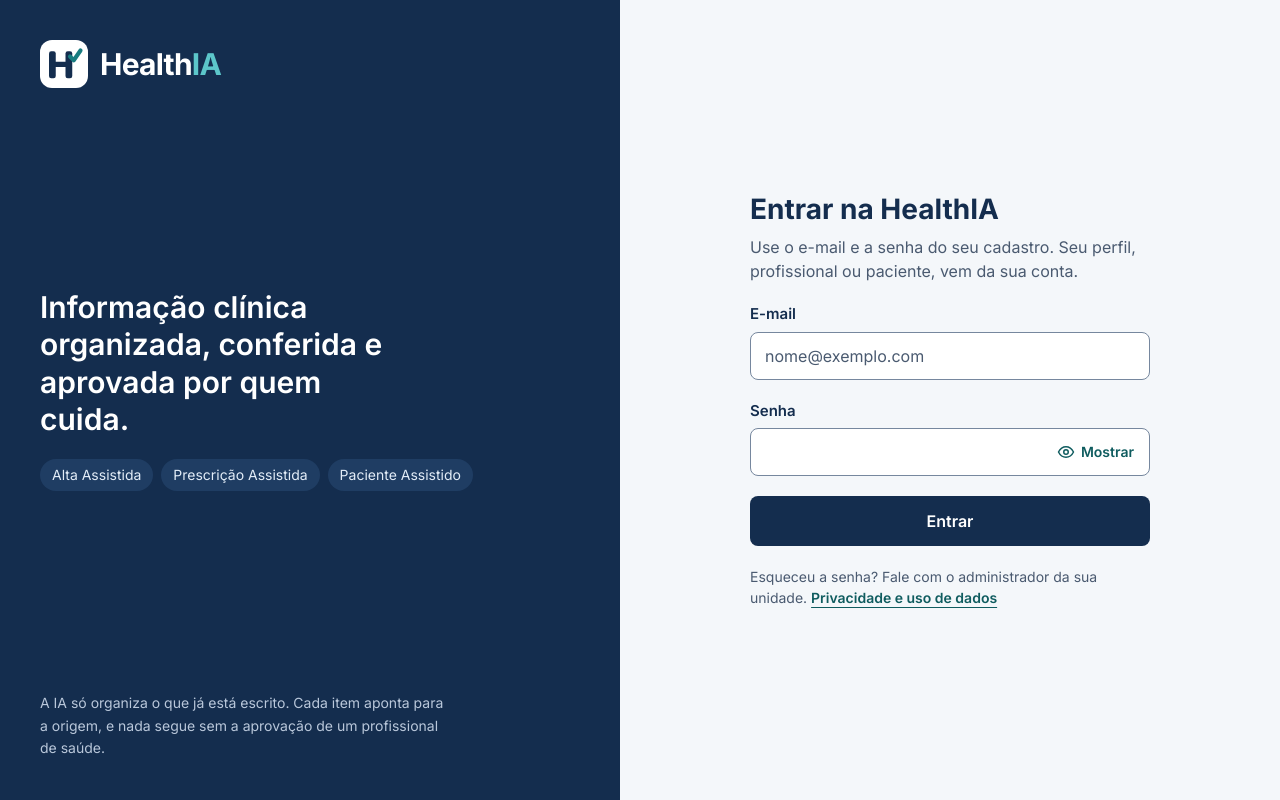
Test: Tela de login › conta sem perfil liberado recebe a mensagem do servidor de autenticação
Type "nova@exemplo.com" into the field labelled "E-mail" at (950,356), box [750,332,1150,380]
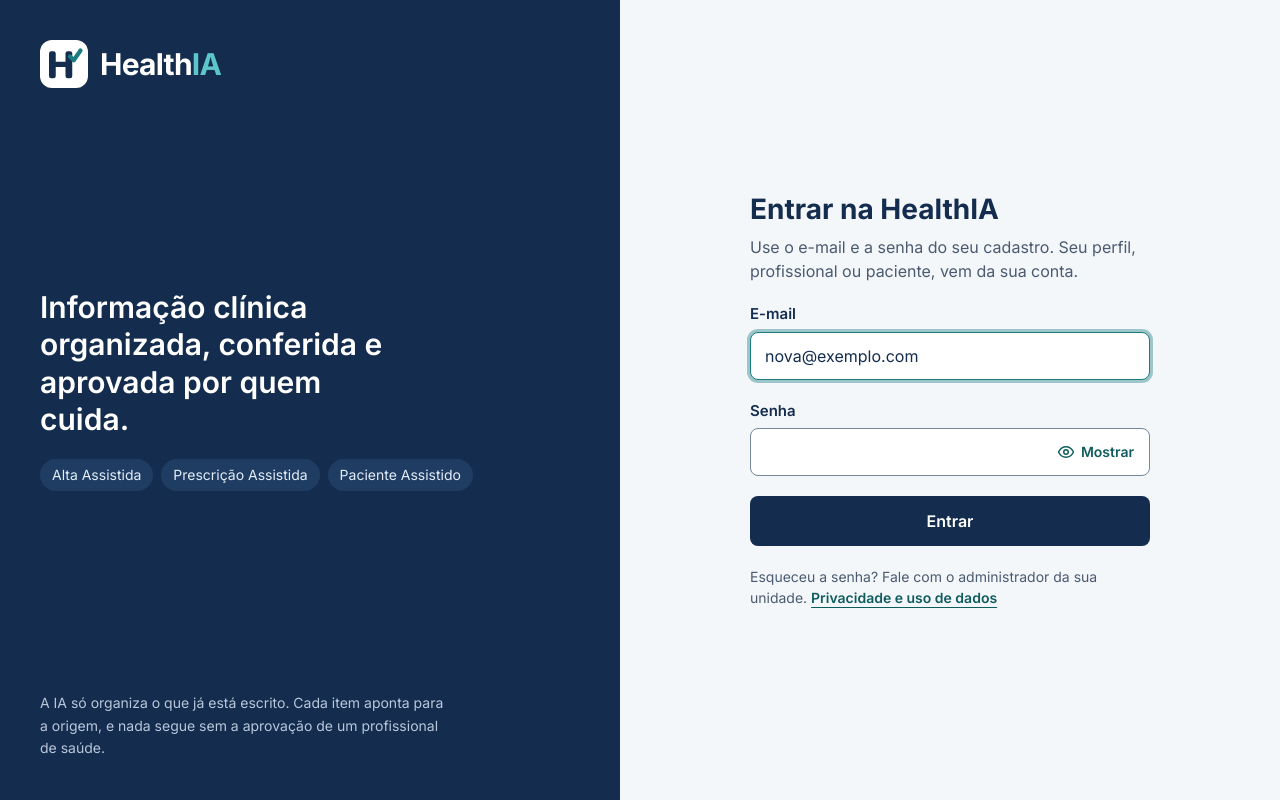
Type "qualquer" into the password field labelled "Senha" at (950,452), box [750,428,1150,476]
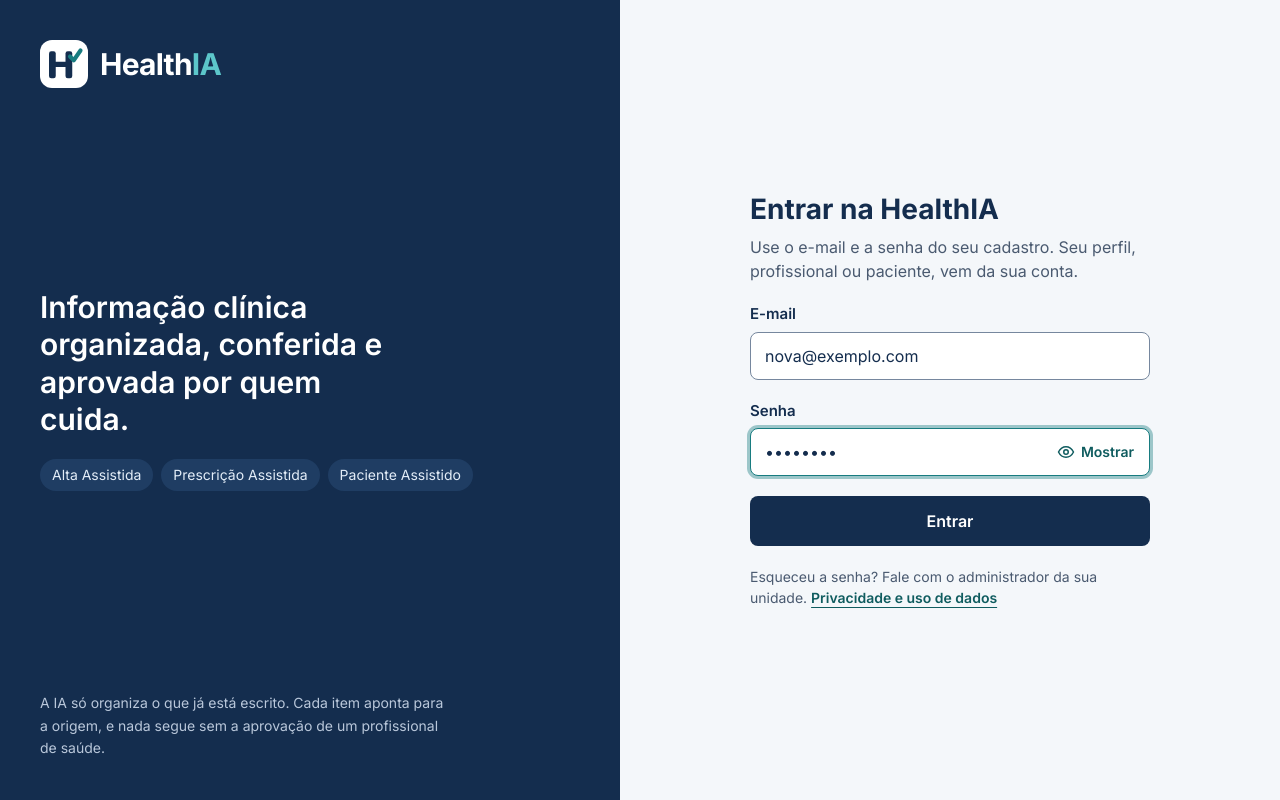
Click the button "Entrar" at (950,521), box [750,496,1150,546]
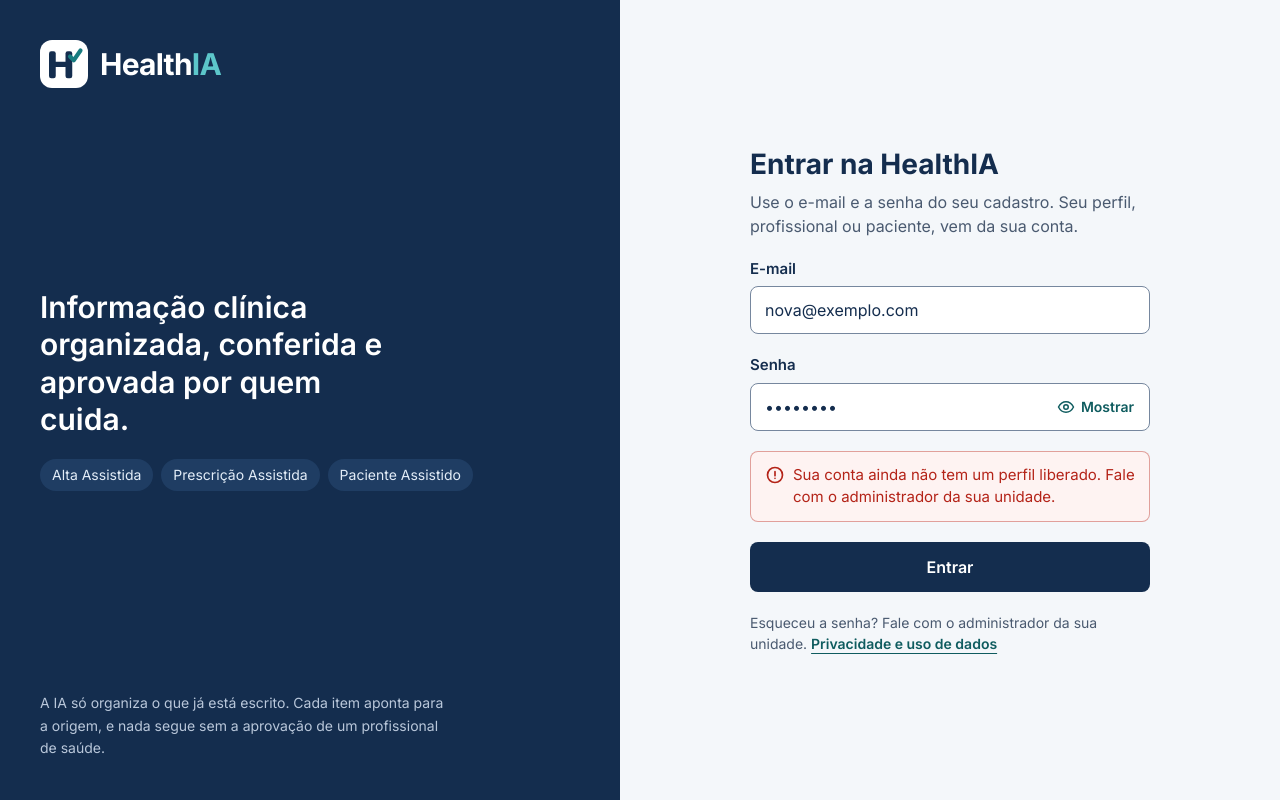
Expected: the message shows "Sua conta ainda não tem um perfil liberado. Fale com o administrador da sua unidade.", [793,464,1135,506]
